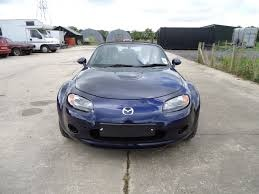Dent: (125, 97, 164, 117), (113, 70, 146, 82)
